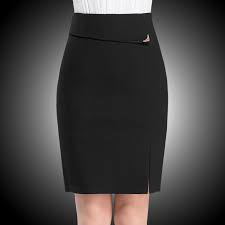F_tailored skirt: (48, 7, 172, 197)
